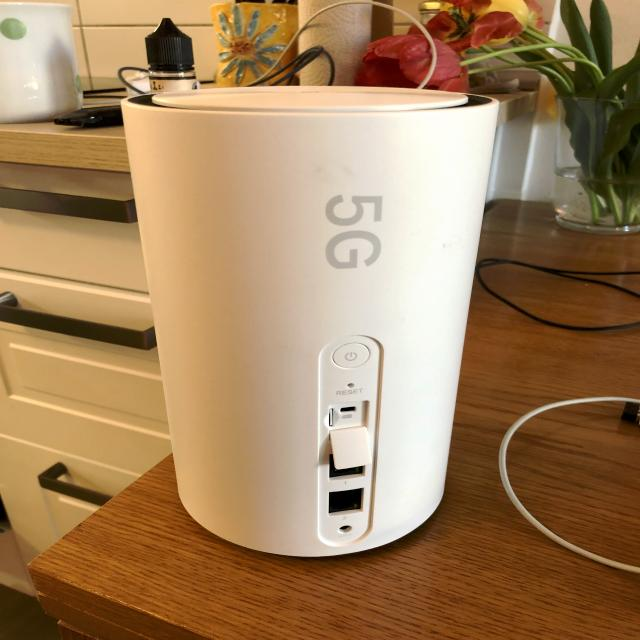lan: (326, 488, 368, 516)
modem: (114, 83, 503, 559)
onbutton: (333, 344, 373, 368)
pow: (331, 520, 367, 542)
siminside: (324, 407, 340, 429)
